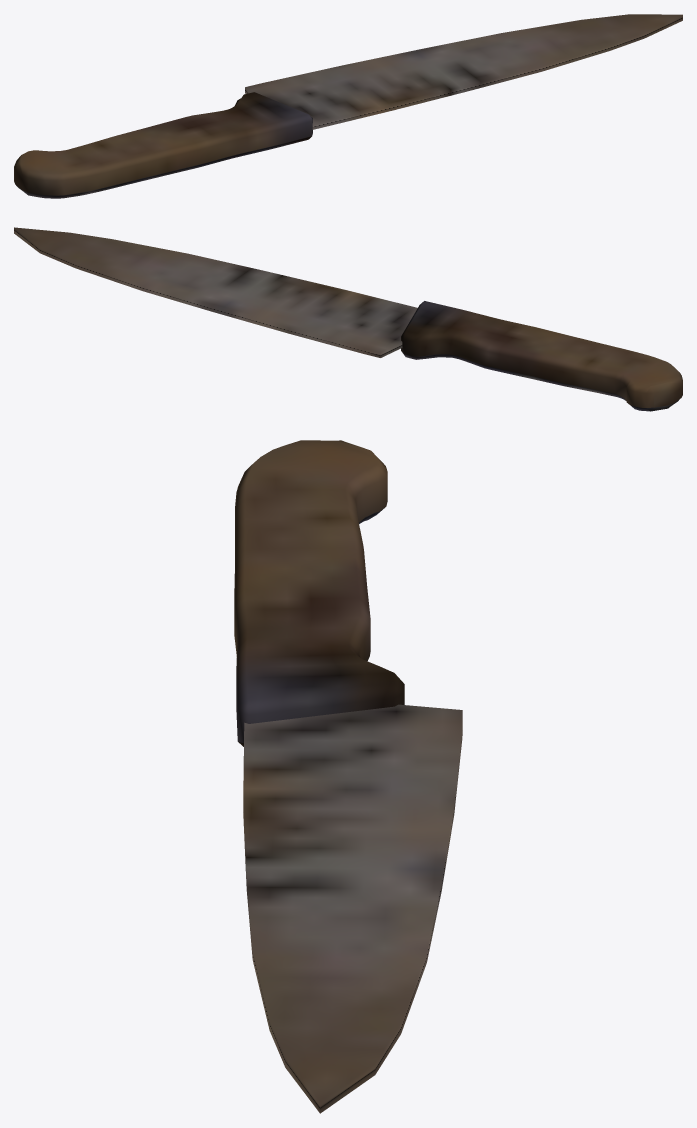
Rendered from knife.fbx.
3 views of the same model, one above another, from view 1: azimuth 30°, elevation 25°; view 2: azimuth 150°, elevation 25°; view 3: azimuth 270°, elevation 25° (orthographic). The views are drawn at different scales.
Visible parts, largest first — view 1: Strove.007; view 2: Strove.007; view 3: Strove.007.
Part boxes in pixels (x1,y1,x2,y2): Strove.007: (14, 14, 682, 198); Strove.007: (14, 227, 682, 411); Strove.007: (234, 440, 462, 1113).
Bounding box in the file's own units: 31.85 × 1.18 × 4.75.
Materials: 1 (1 with a texture image).
